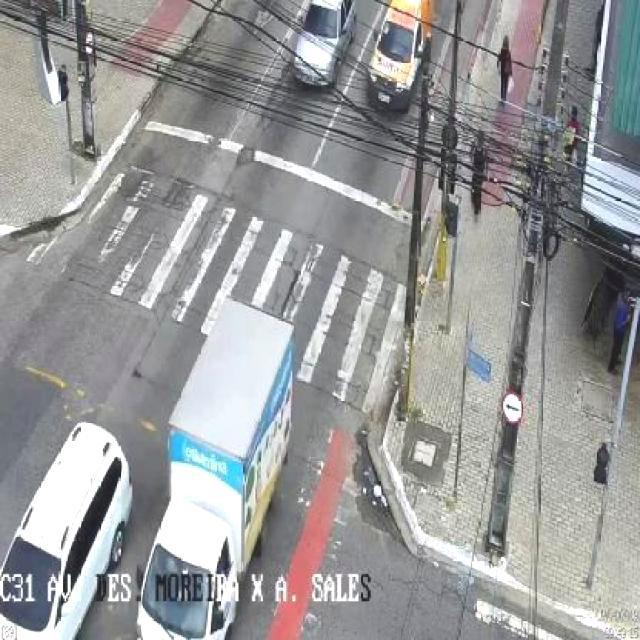Car: (0, 421, 137, 640), (287, 0, 360, 88)
Truck: (136, 296, 300, 640), (366, 0, 439, 114)
